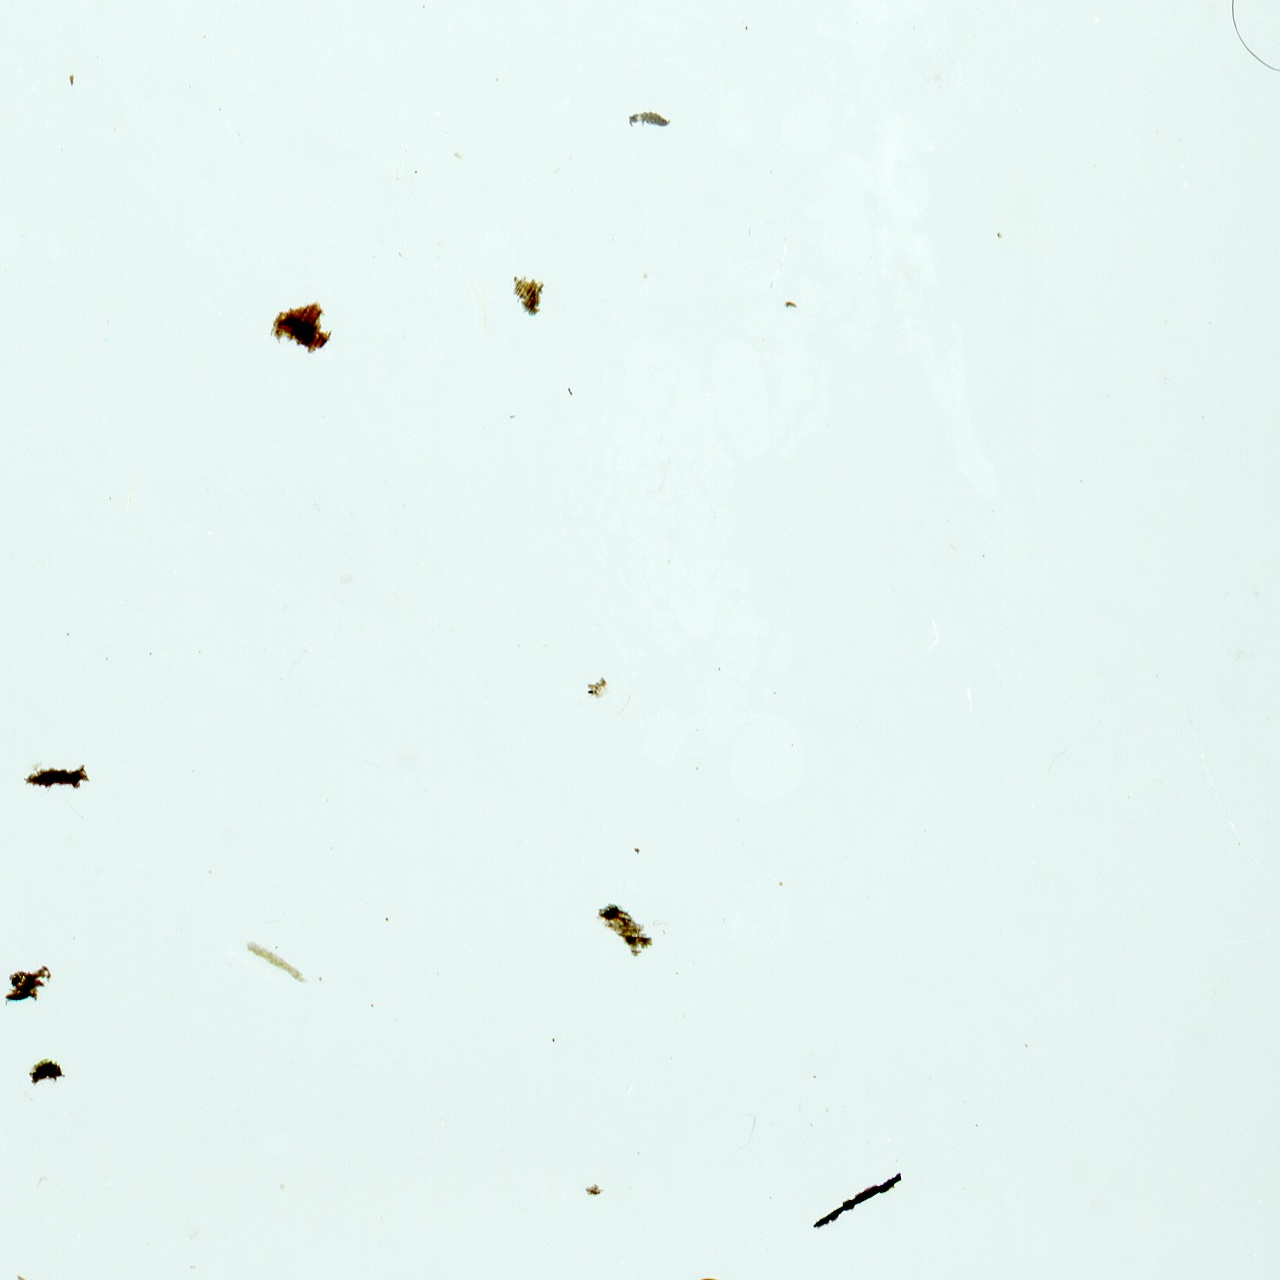arthropod: (670, 1234, 851, 1280), (625, 108, 672, 129)
